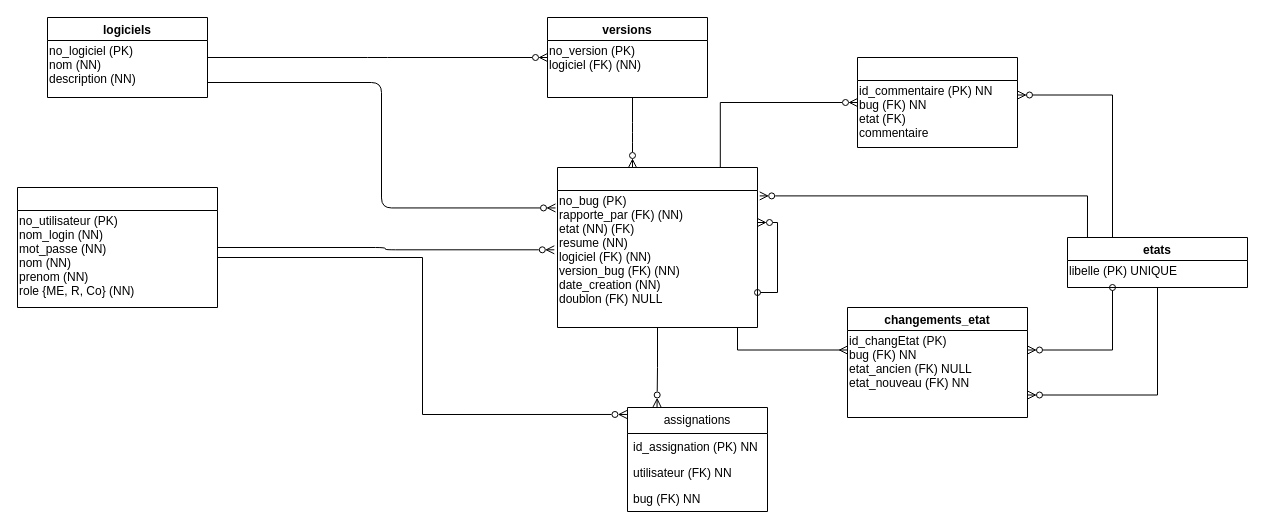
Image size: 1265x532. Some labels were removed from this diagram. Here are the shapes that lost their labels. From the top down, the box of each, then its label:
(856, 56, 1018, 148): commentaires
(16, 186, 218, 308): utilisateurs
(556, 166, 758, 328): bugs
